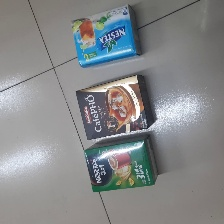CF pho: (75, 74, 154, 141)
Nes Rang: (84, 137, 157, 195)
Nestea: (71, 3, 142, 67)
